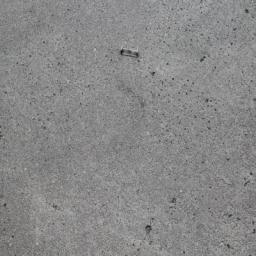FOD: (118, 43, 143, 59)
